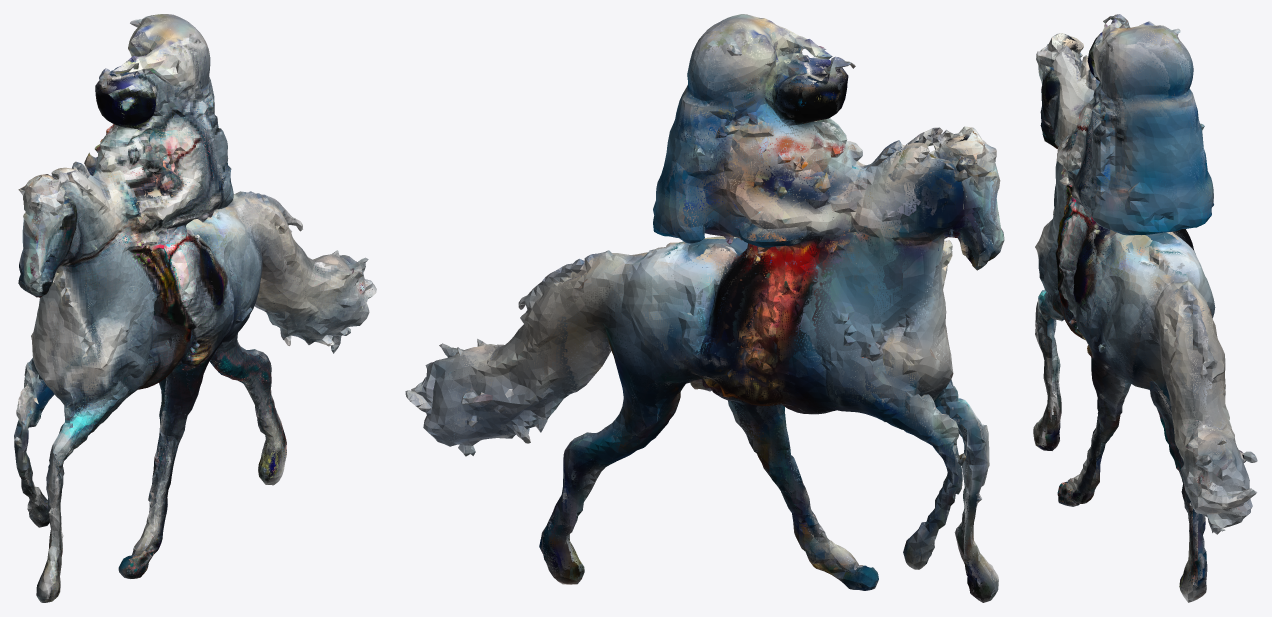
File: astronaut_006.glb
The picture shows the model from 3 angles, left to right: view 1: azimuth 30°, elevation 25°; view 2: azimuth 150°, elevation 25°; view 3: azimuth 270°, elevation 25°; orthographic projection. The views are drawn at different scales.
Bounding box in the file's own units: 1.24 × 1.39 × 0.5533.
1 material, 1 textured.
